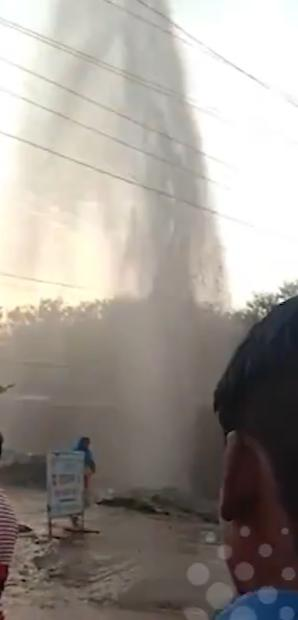pipe burst: (2, 0, 227, 508)
water accumulation: (40, 509, 241, 608)
